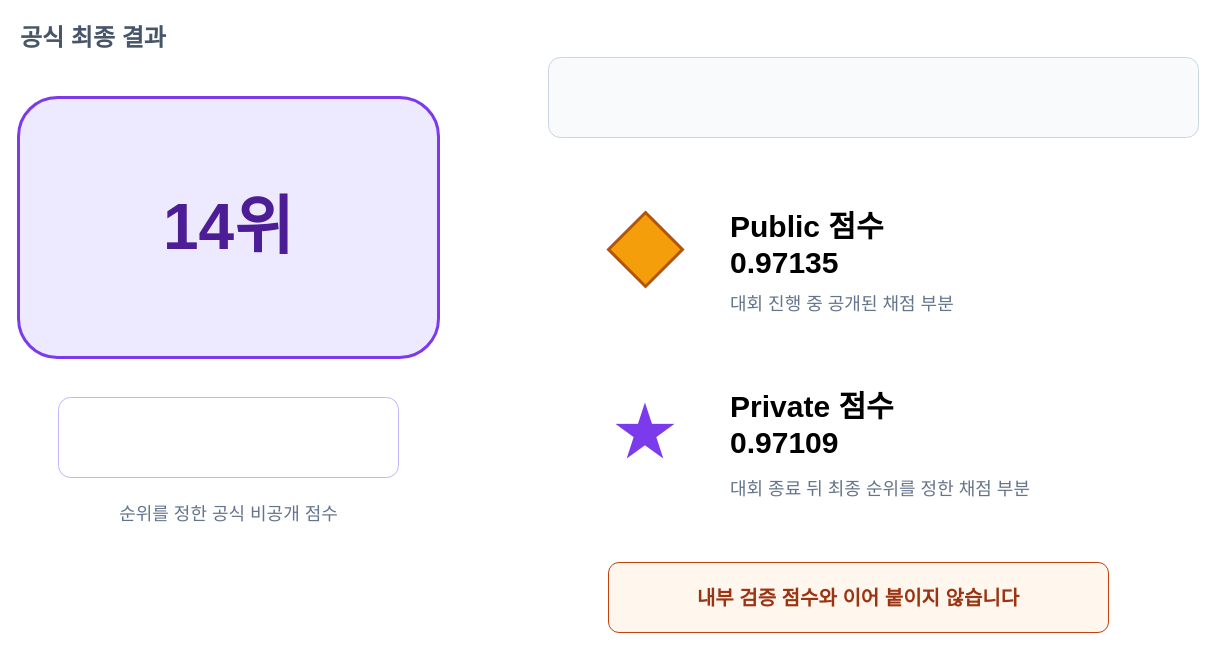
The diagram is 1216 pixels wide and 650 high, and some of its shapes have lost their labels. Here are the shapes that lost their labels. From the top down, the centre of each, then its label:
(x=873, y=97): 같은 제출, 서로 다른 채점 표본
(x=228, y=437): Taemyung Heo
